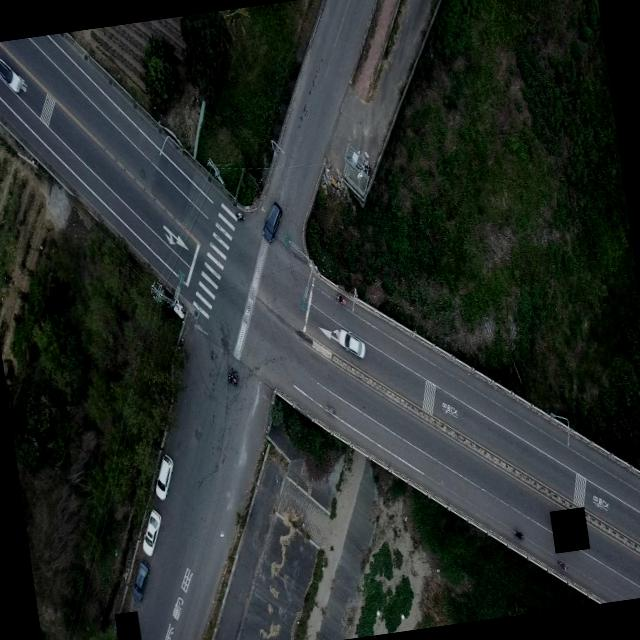bike: (510, 522, 526, 544), (557, 559, 567, 569)
car: (138, 508, 166, 557), (150, 452, 178, 499), (334, 325, 368, 362), (260, 200, 286, 243), (129, 558, 153, 602), (0, 54, 25, 96)
